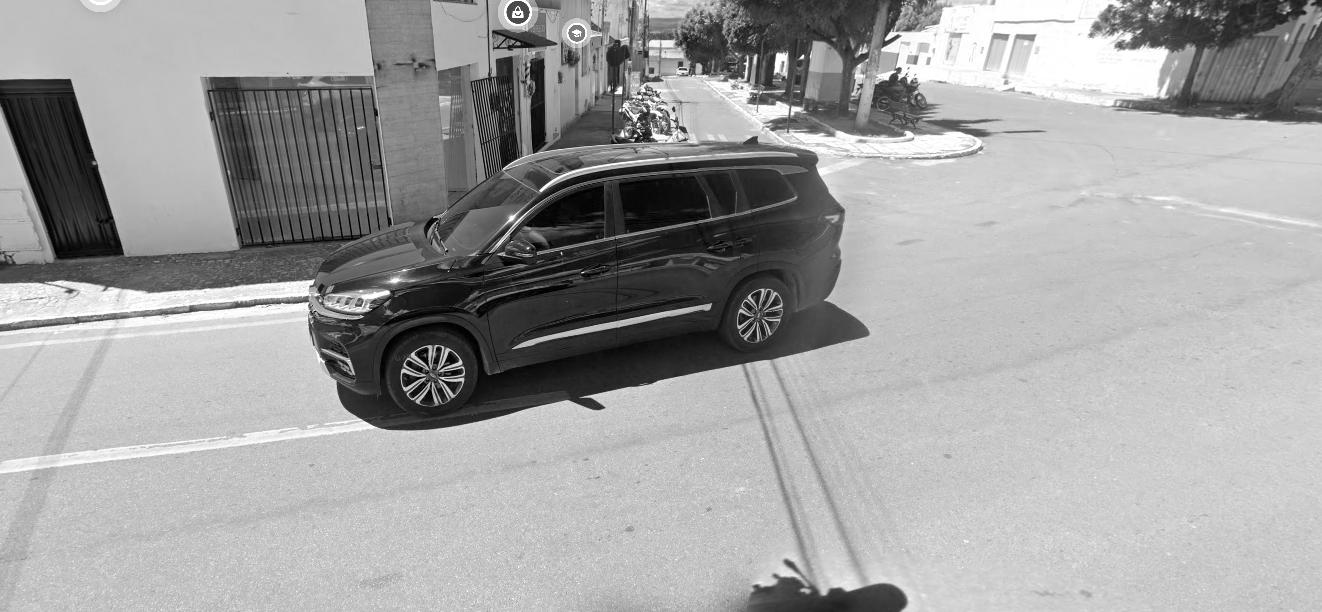car: (301, 128, 847, 422)
